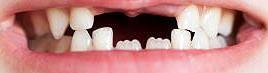Hypodontia: (90, 11, 180, 32)
